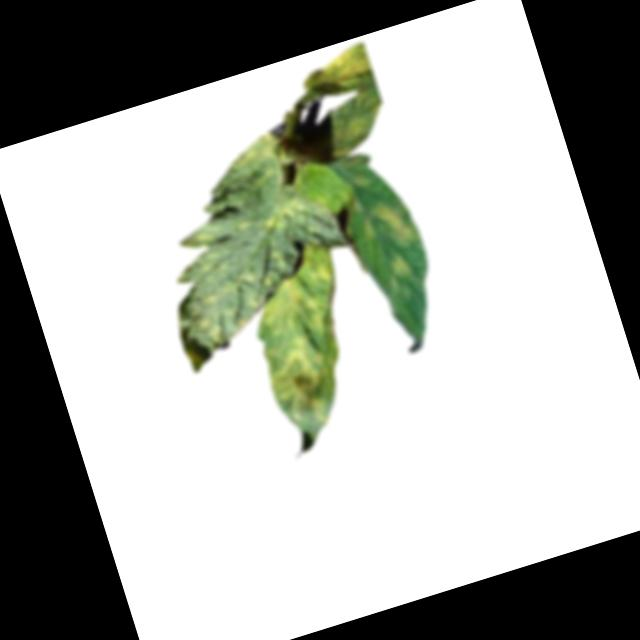Leaf_Mold: (234, 241, 380, 441), (299, 40, 376, 103), (220, 128, 289, 193), (260, 193, 311, 238), (372, 202, 414, 249), (383, 252, 413, 284)
